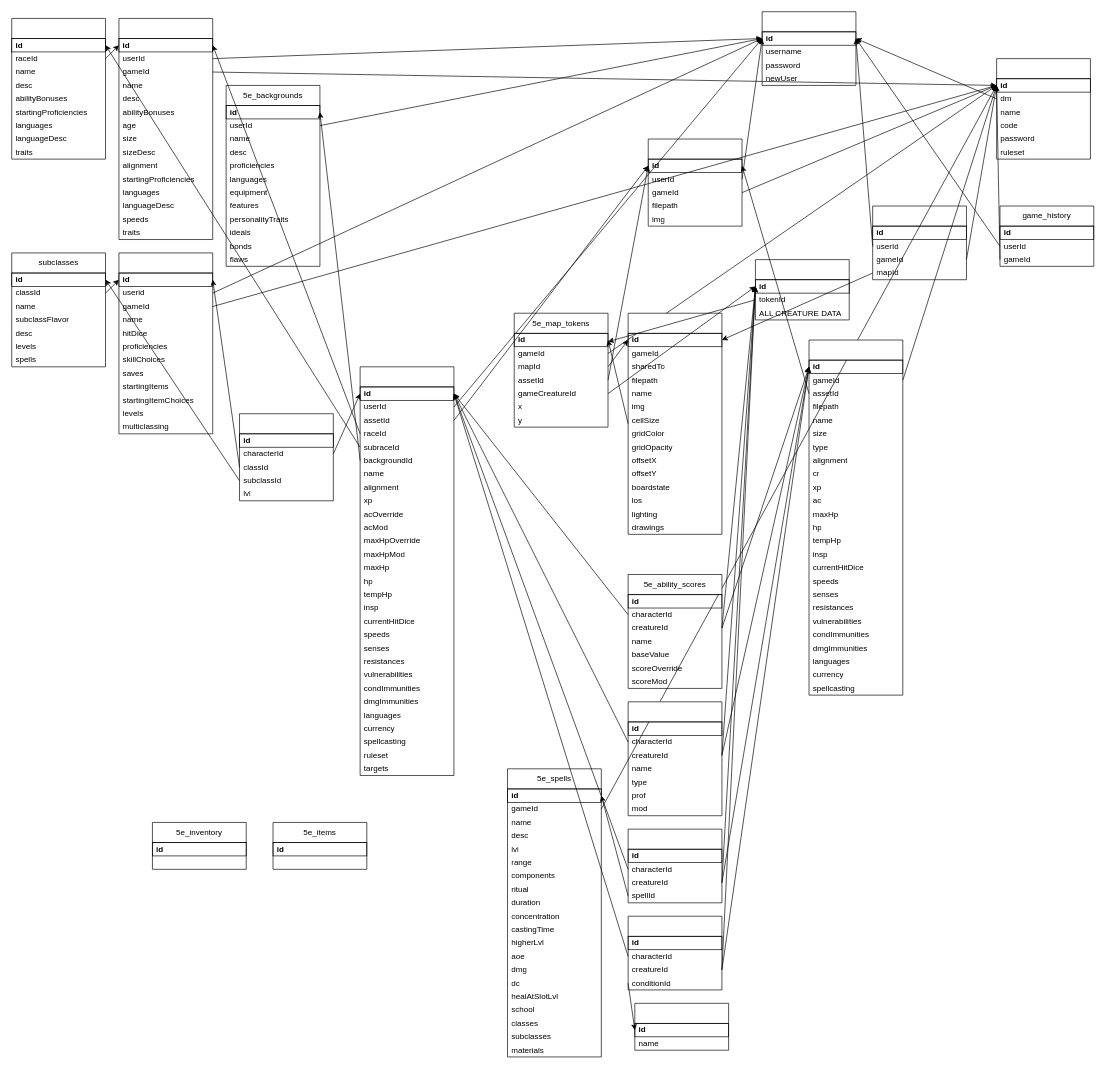
This 1106x1069 diagram has some shape labels left out. The shapes that lost their labels are listed below. From the top down, each one's box as (x1, y1, x2, y2) in pixels, then its label:
(761, 11, 856, 85): users
(11, 18, 106, 159): 5e_subraces
(996, 58, 1090, 159): game_list
(118, 18, 213, 240): 5e_races
(648, 138, 742, 226): assets
(872, 205, 966, 280): games
(755, 259, 849, 320): 5e_game_creatures
(118, 252, 213, 434): 5e_classes
(627, 313, 722, 534): 5e_maps
(239, 413, 333, 501): 5e_character_classes
(808, 339, 903, 695): 5e_creatures
(359, 366, 454, 776): 5e_characters
(627, 701, 722, 816): 5e_skills
(627, 828, 722, 903): 5e_creature_spells
(627, 916, 722, 990): 5e_creature_conditions
(634, 1003, 729, 1050): 5e_conditions
